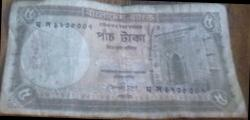5 taka: (10, 3, 242, 114)
